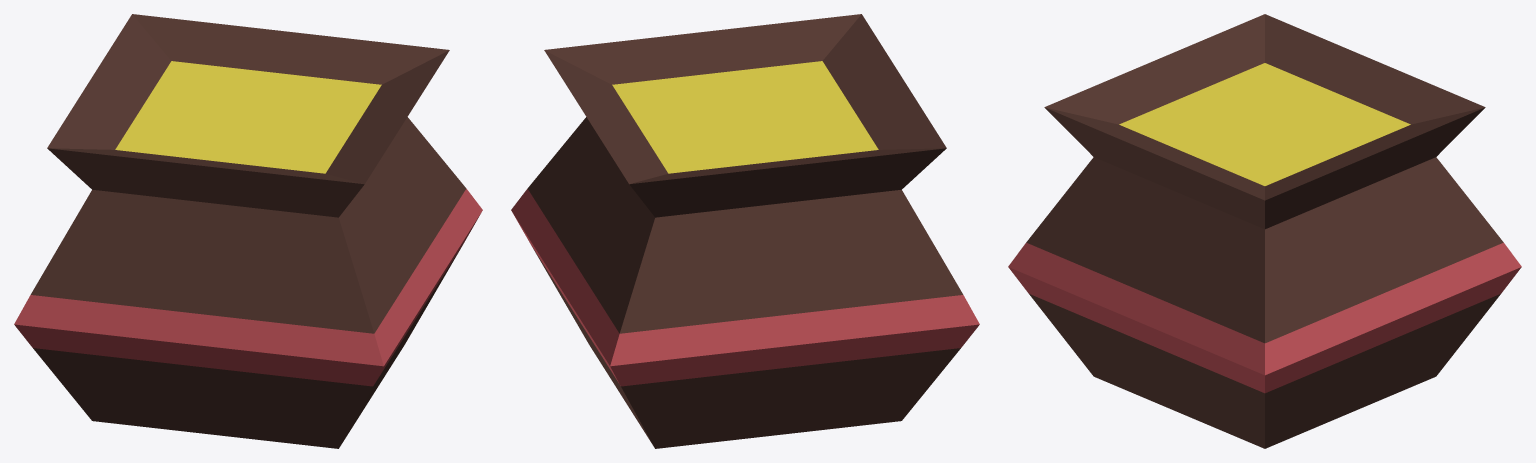
Rendered from item_sand.fbx.
The picture shows the model from 3 angles, left to right: view 1: azimuth 30°, elevation 25°; view 2: azimuth 150°, elevation 25°; view 3: azimuth 270°, elevation 25°; orthographic projection. The views are drawn at different scales.
Visible parts, largest first — view 1: Sand; view 2: Sand; view 3: Sand.
Boxes of the visible parts, box(x1,y1,x2,y2) form: Sand: box(14, 14, 482, 448); Sand: box(511, 14, 979, 448); Sand: box(1008, 14, 1521, 448).
Size of the model in its own units: 424 by 245 by 424.
